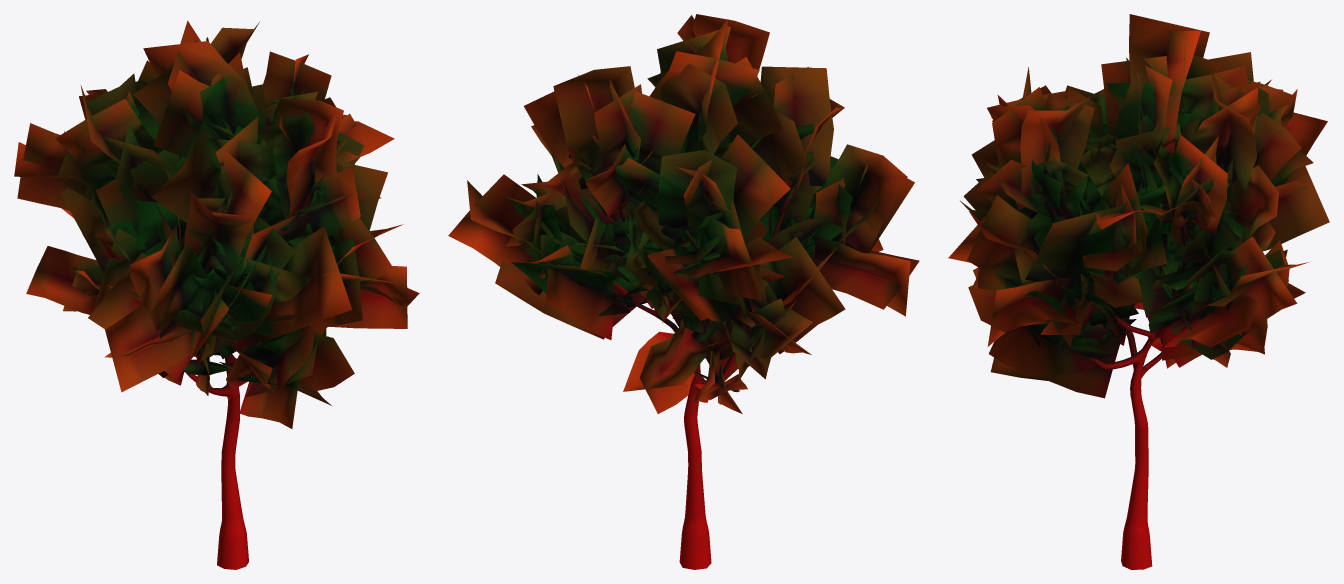
The model's file is GenericTree_Winter_C.fbx.
The picture shows the model from 3 angles, left to right: view 1: azimuth 30°, elevation 25°; view 2: azimuth 150°, elevation 25°; view 3: azimuth 270°, elevation 25°; orthographic projection. The views are drawn at different scales.
Visible parts, largest first — view 1: GTWC_Leaves_LOD0, GTWC_Bark_LOD0; view 2: GTWC_Leaves_LOD0, GTWC_Bark_LOD0; view 3: GTWC_Leaves_LOD0, GTWC_Bark_LOD0.
Part boxes in pixels (x1=…): GTWC_Leaves_LOD0: x1=14, y1=20, x2=419, y2=428; GTWC_Bark_LOD0: x1=186, y1=126, x2=309, y2=569; GTWC_Leaves_LOD0: x1=448, y1=14, x2=919, y2=413; GTWC_Bark_LOD0: x1=616, y1=155, x2=840, y2=569; GTWC_Leaves_LOD0: x1=948, y1=14, x2=1329, y2=398; GTWC_Bark_LOD0: x1=1051, y1=218, x2=1194, y2=569.
Size of what is drawn, in the model's own units: 8.18 by 12.33 by 7.96.
